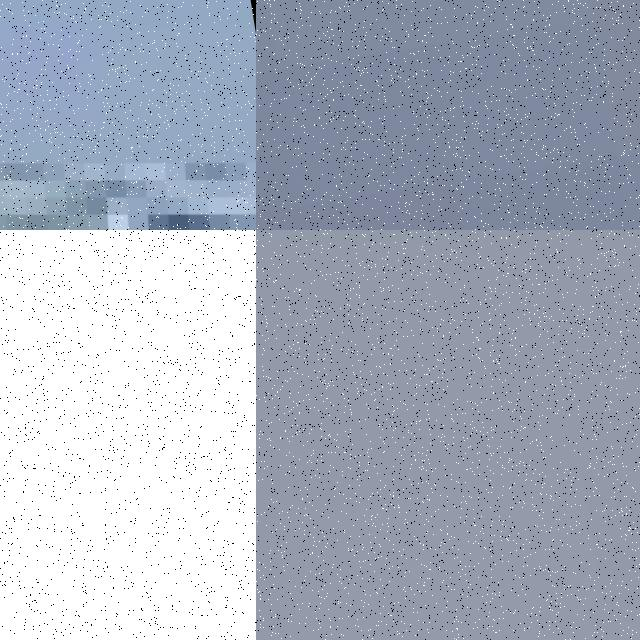drone: (0, 0, 256, 230)
